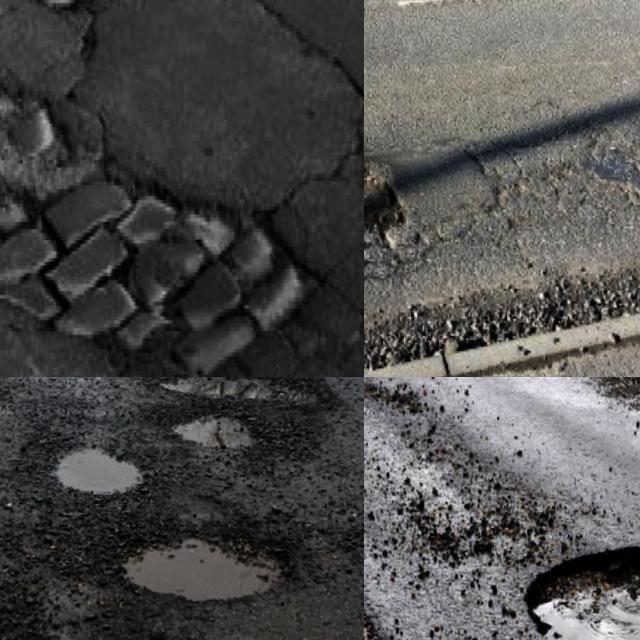Potholes: (0, 103, 364, 377), (80, 465, 364, 633), (487, 473, 640, 640), (4, 405, 186, 543), (147, 377, 309, 484), (114, 377, 349, 448), (0, 571, 234, 640), (364, 86, 437, 288), (0, 0, 156, 87), (565, 106, 640, 226)
